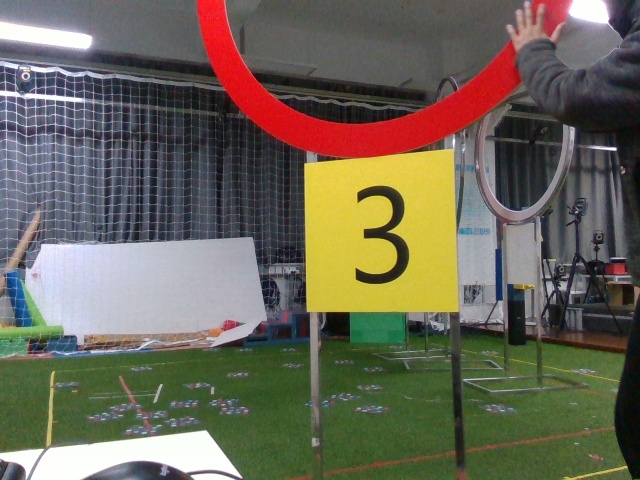target: (308, 166, 453, 301)
